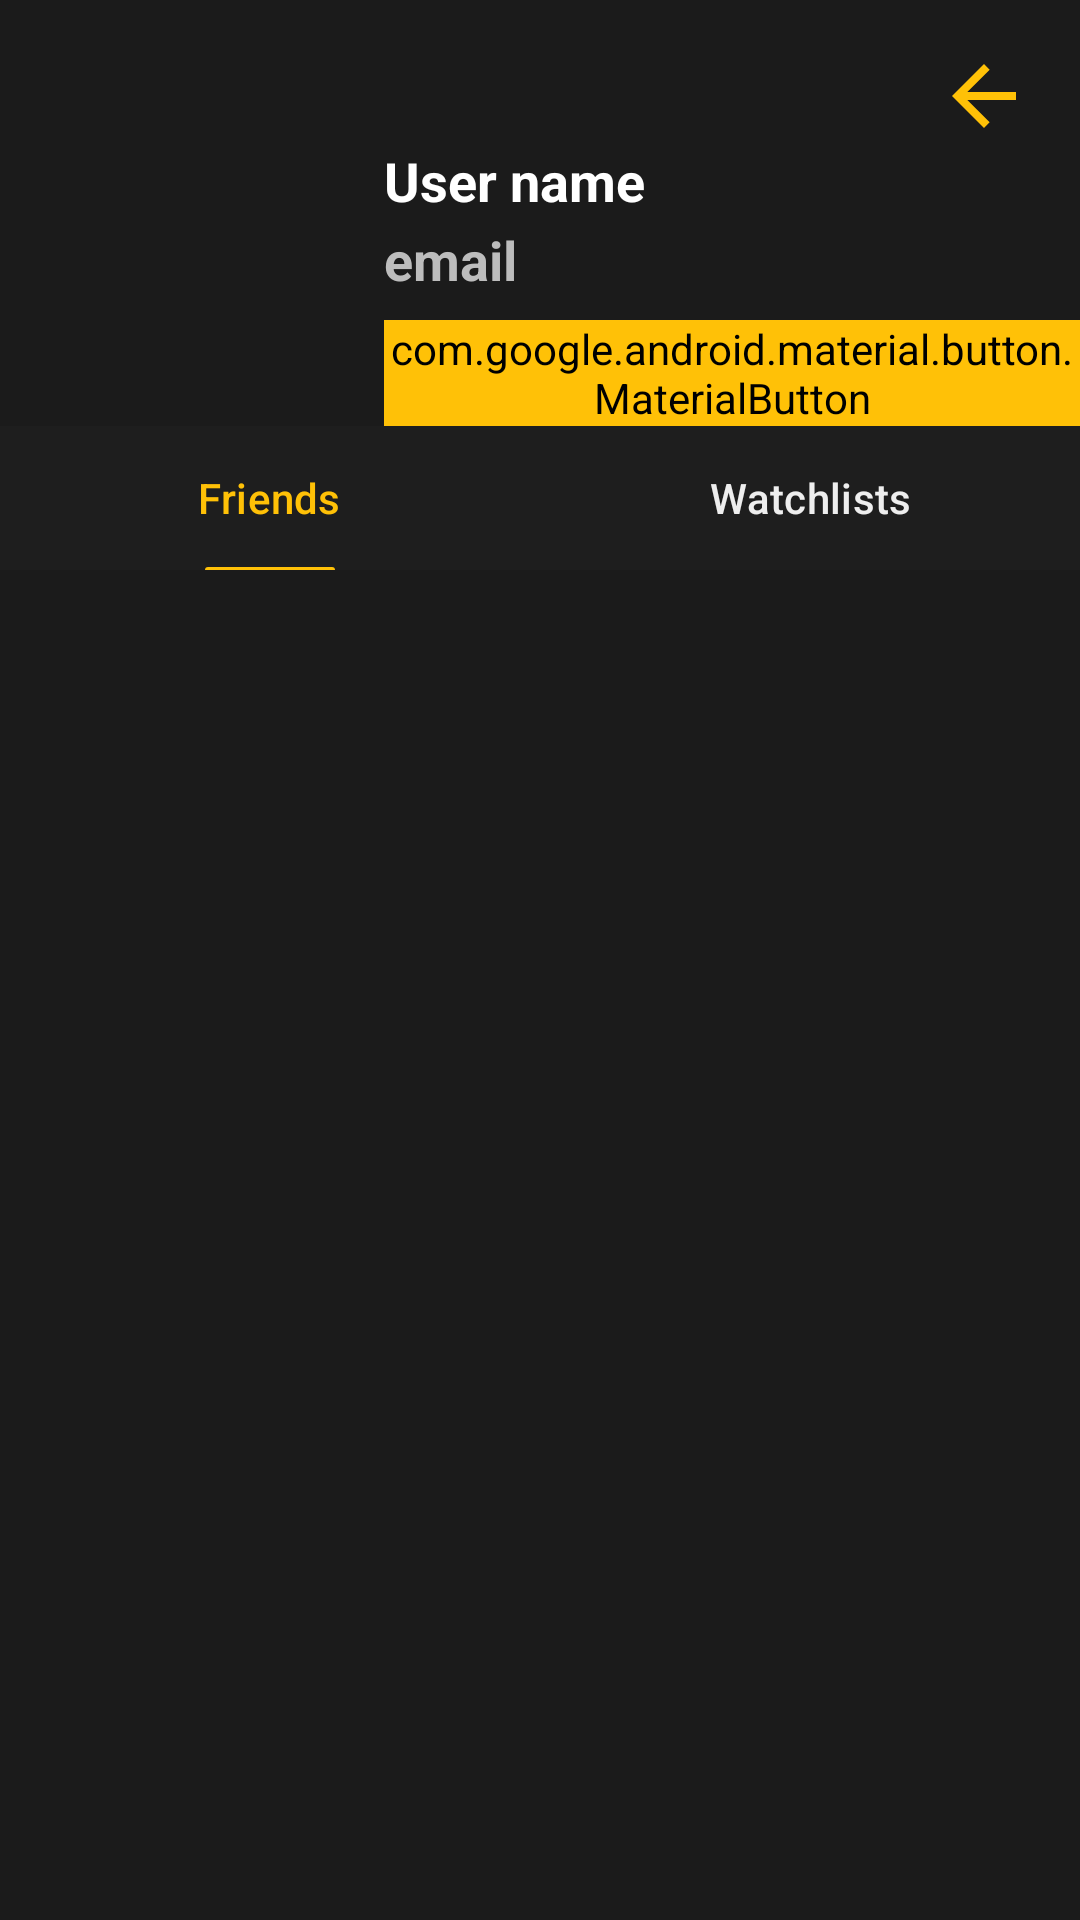

Point at icon controls on the screen. Image size 1080w x 1920h, points as (x=x, y=y).
Back: (x=984, y=96)
